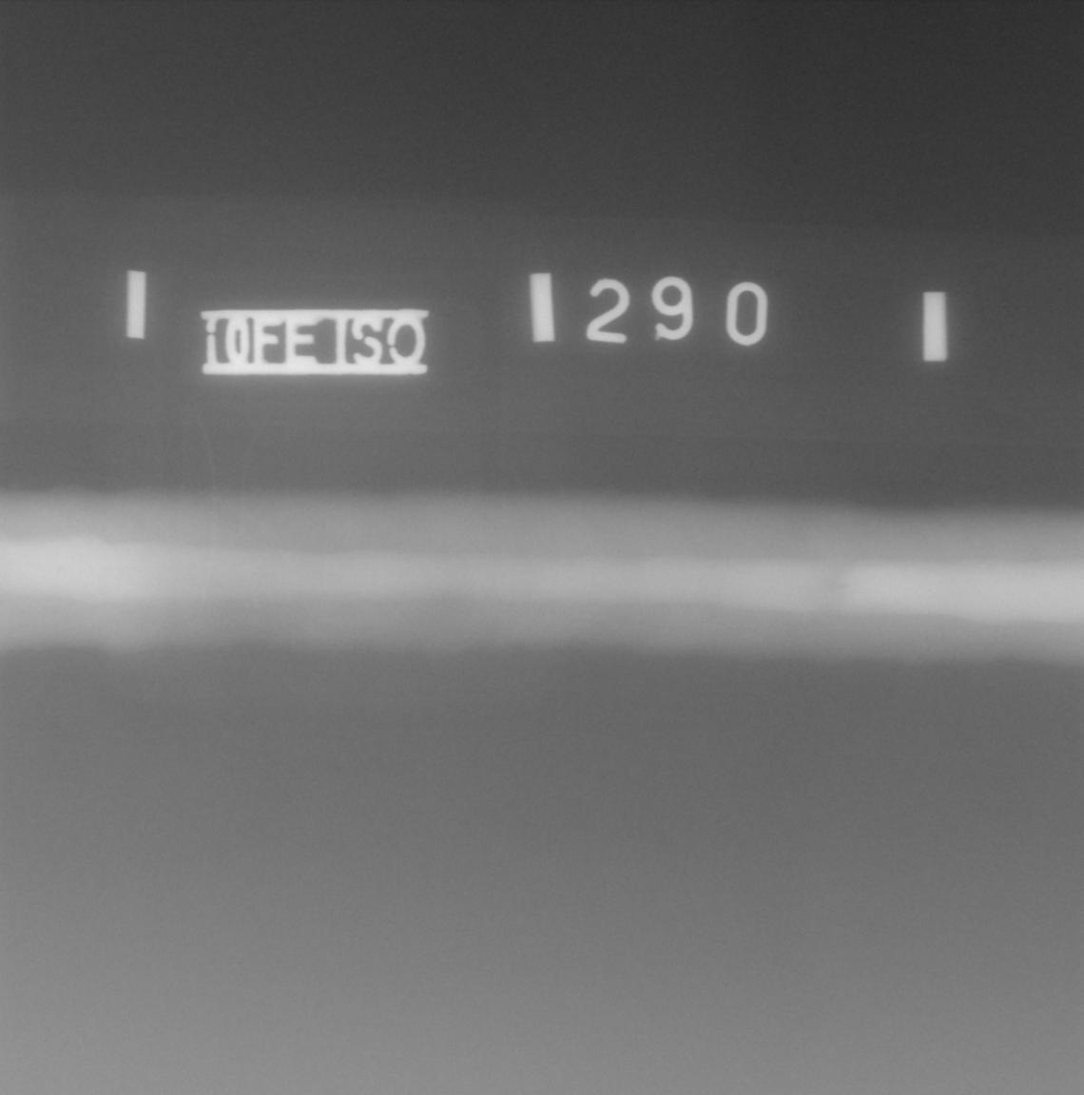Inclusion: (840, 584, 850, 588)
